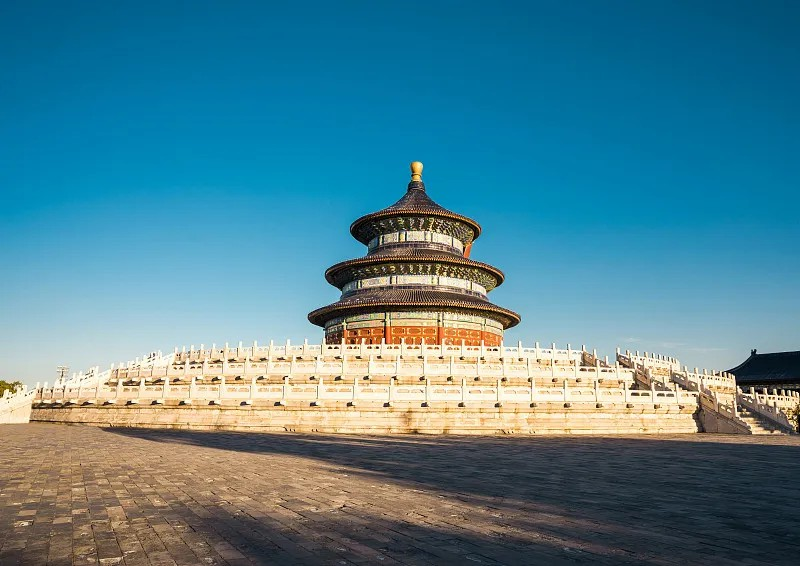Heaven: (307, 159, 521, 348)
